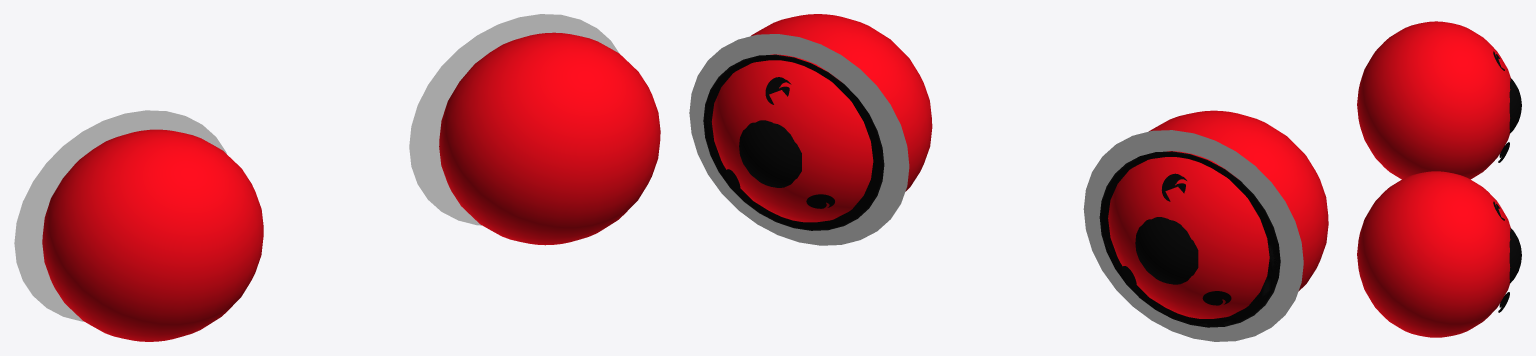
The model's file is UchiwaEyes.fbx.
3 renders of one model, left to right at view 1: azimuth 30°, elevation 25°; view 2: azimuth 150°, elevation 25°; view 3: azimuth 270°, elevation 25°, orthographic. The views are drawn at different scales.
Visible parts, largest first — view 1: Cylinder.026; view 2: Cylinder.026; view 3: Cylinder.026.
Part boxes in pixels (box(x1,y1,x2,y2)): Cylinder.026: box(14, 14, 660, 341); Cylinder.026: box(689, 14, 1328, 341); Cylinder.026: box(1357, 21, 1521, 337).
Size of the model in its own units: 71.25 by 22.76 by 21.38.
